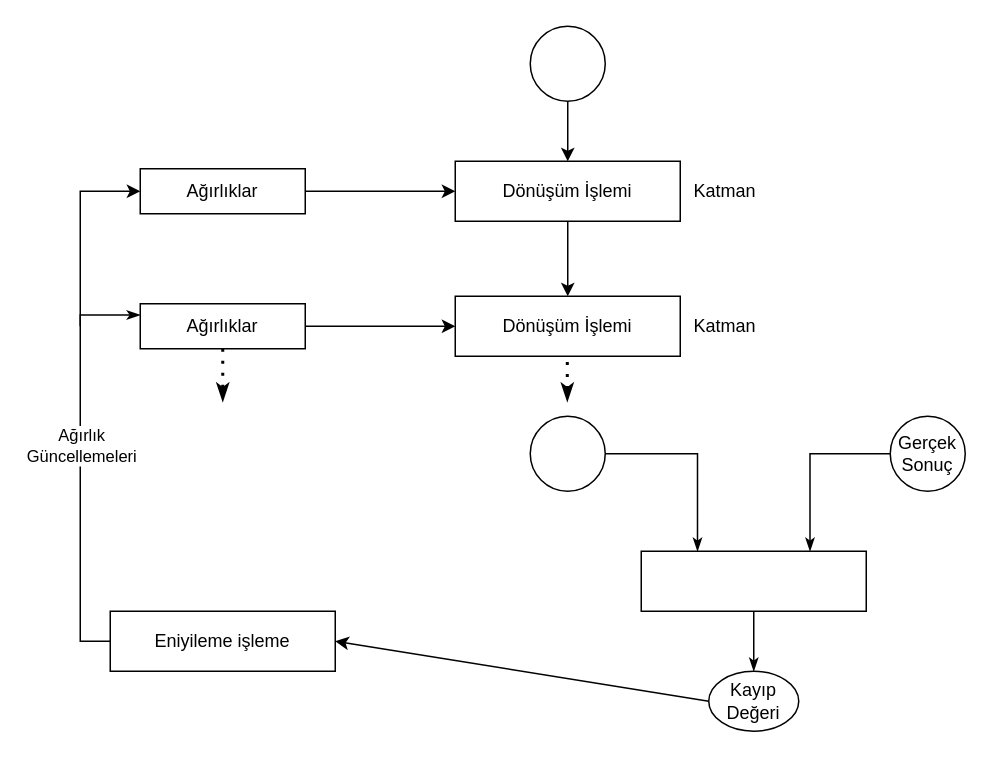
Some shapes in this 992 by 758 pixel diagram are drawn without their labels. The shapes that lost their labels are listed below. From the top down, each one's centre as x and y in pixels, then its label:
At pixel 567 63: "Veri".
At pixel 567 453: "Tahmin Sonucu".
At pixel 753 580: "Kayıp Fonksiyonu".
